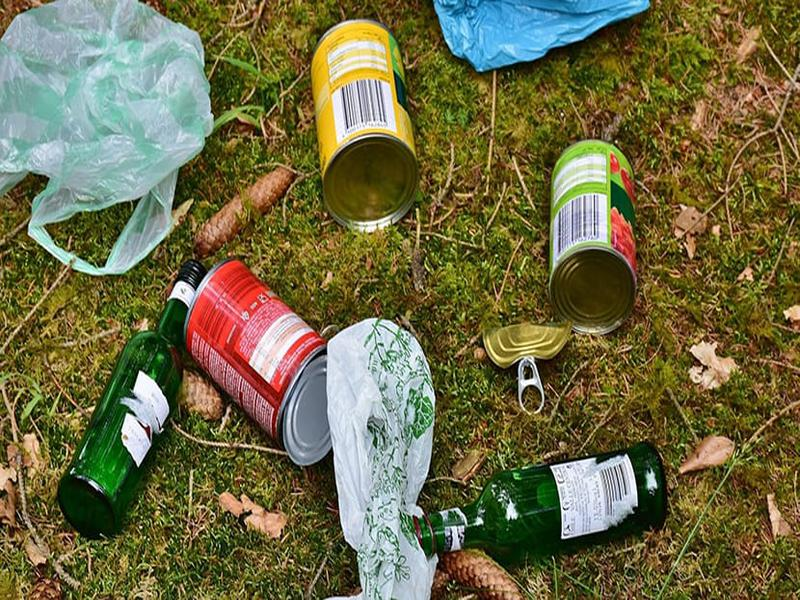bottle: (54, 256, 223, 544), (407, 435, 674, 560)
can: (182, 254, 344, 472), (308, 20, 427, 234), (543, 135, 647, 336)
plastic: (1, 1, 229, 277), (321, 316, 447, 600), (424, 1, 666, 75)
